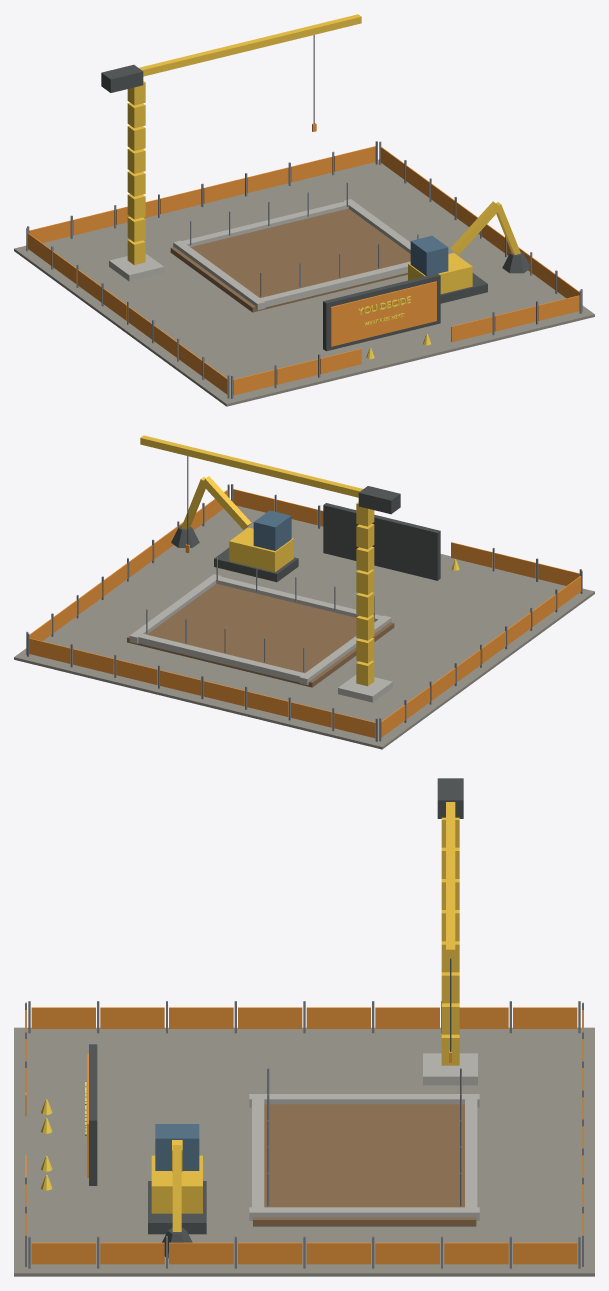
File: construction-zone.glb
3 views of the same model, one above another, from view 1: azimuth 30°, elevation 25°; view 2: azimuth 150°, elevation 25°; view 3: azimuth 270°, elevation 25° (orthographic). The views are drawn at different scales.
Parts seen in each view (by area): view 1: construction_zone_batched.001; view 2: construction_zone_batched.001; view 3: construction_zone_batched.001.
Boxes of the visible parts, bbox=[...] form: construction_zone_batched.001: bbox=[14, 14, 594, 406]; construction_zone_batched.001: bbox=[14, 435, 594, 749]; construction_zone_batched.001: bbox=[14, 778, 594, 1276].
Bounding box in the file's own units: 33.8 × 17.9 × 33.8.
